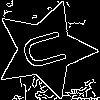U: (20, 25, 77, 73)
